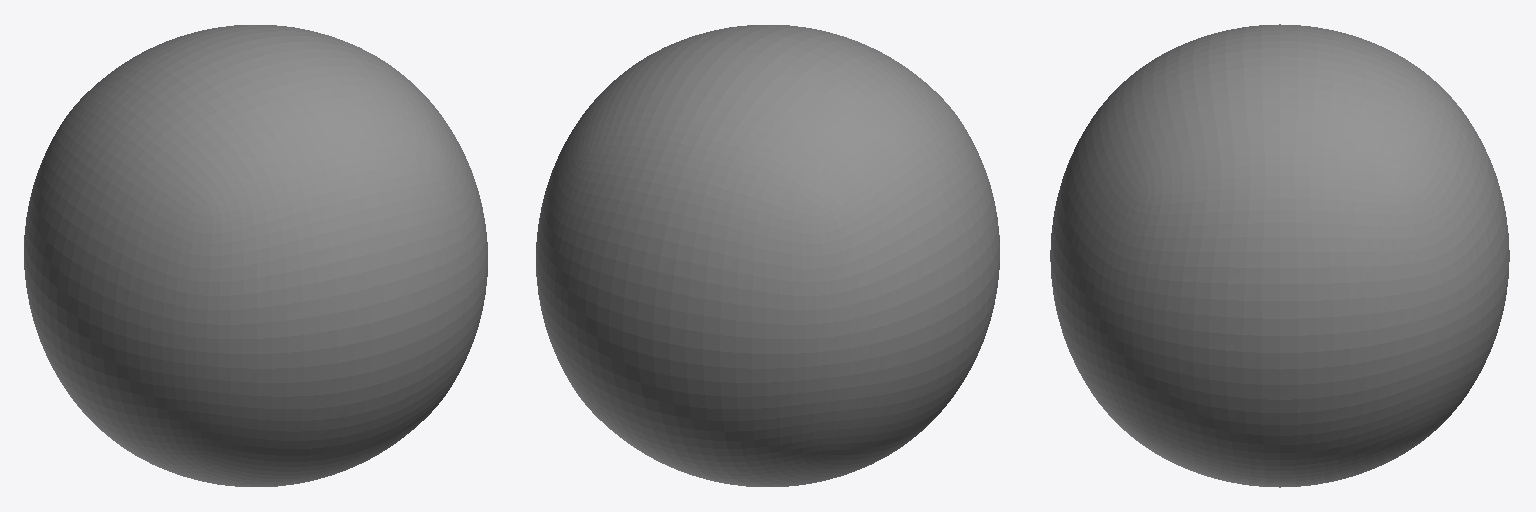
File: 10487_basketball_v1_3dmax2011_it2.obj
3 renders of one model, left to right at view 1: azimuth 30°, elevation 25°; view 2: azimuth 150°, elevation 25°; view 3: azimuth 270°, elevation 25°, orthographic.
Visible parts, largest first — view 1: 10487_basketball_V1_; view 2: 10487_basketball_V1_; view 3: 10487_basketball_V1_.
Boxes of the visible parts, box(x1,y1,x2,y2) form: 10487_basketball_V1_: box(24, 25, 487, 486); 10487_basketball_V1_: box(536, 25, 999, 486); 10487_basketball_V1_: box(1050, 24, 1509, 487).
Bounding box in the file's own units: 39.33 × 39.33 × 39.33.